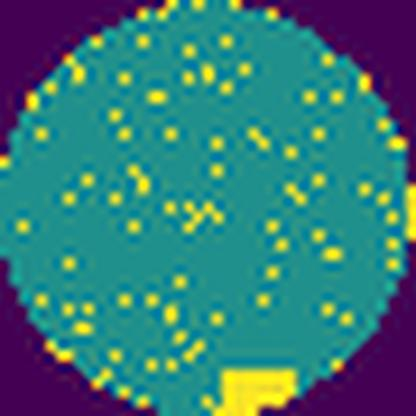Edge-Loc: (207, 365, 303, 416)
